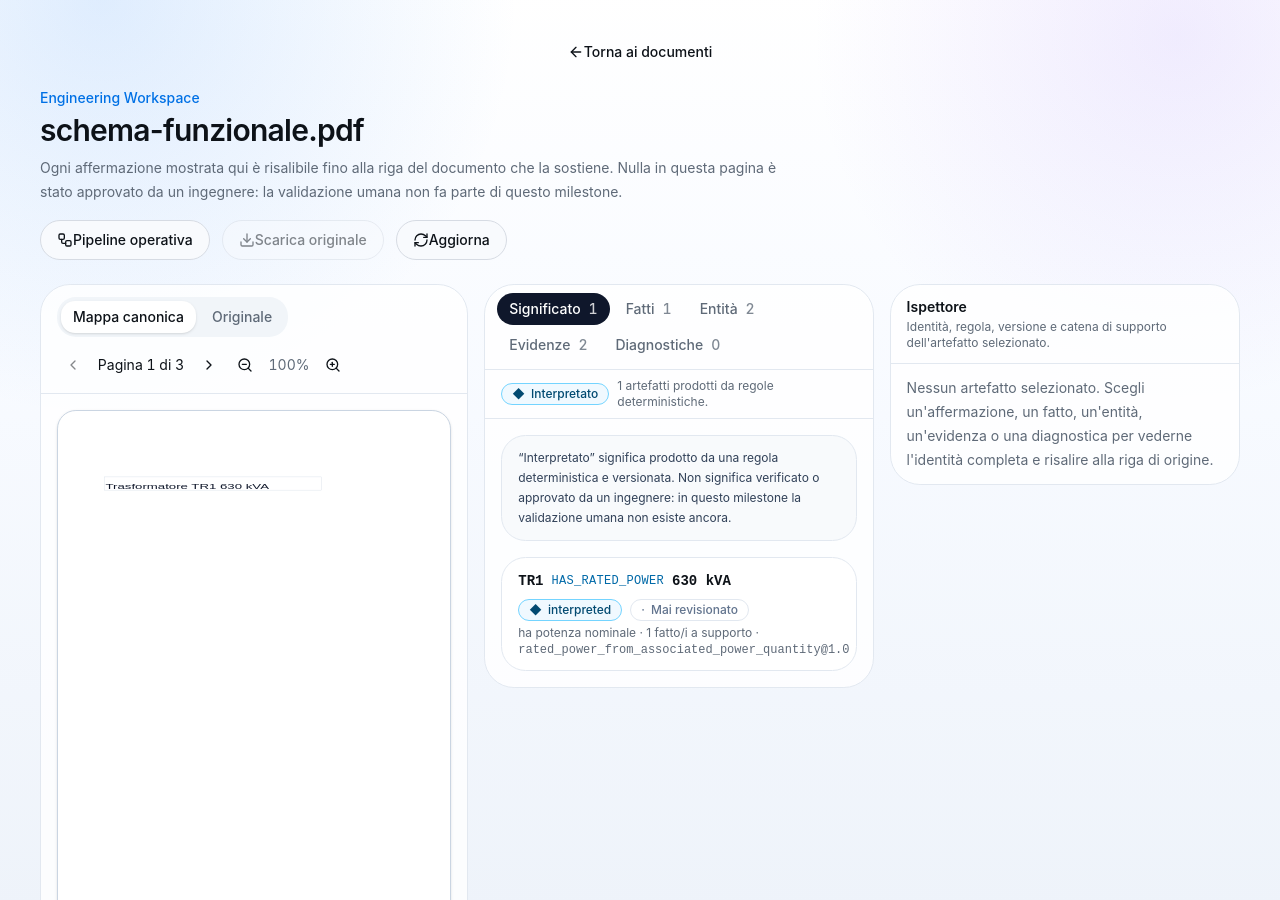
the source viewer › reports missing content instead of embedding nothing
Expected: the heading "schema-funzionale.pdf" is shown, x1=40 y1=112 x2=364 y2=148
Step 1. Click the tab "Originale" → (242, 317), box x1=200 y1=301 x2=284 y2=333
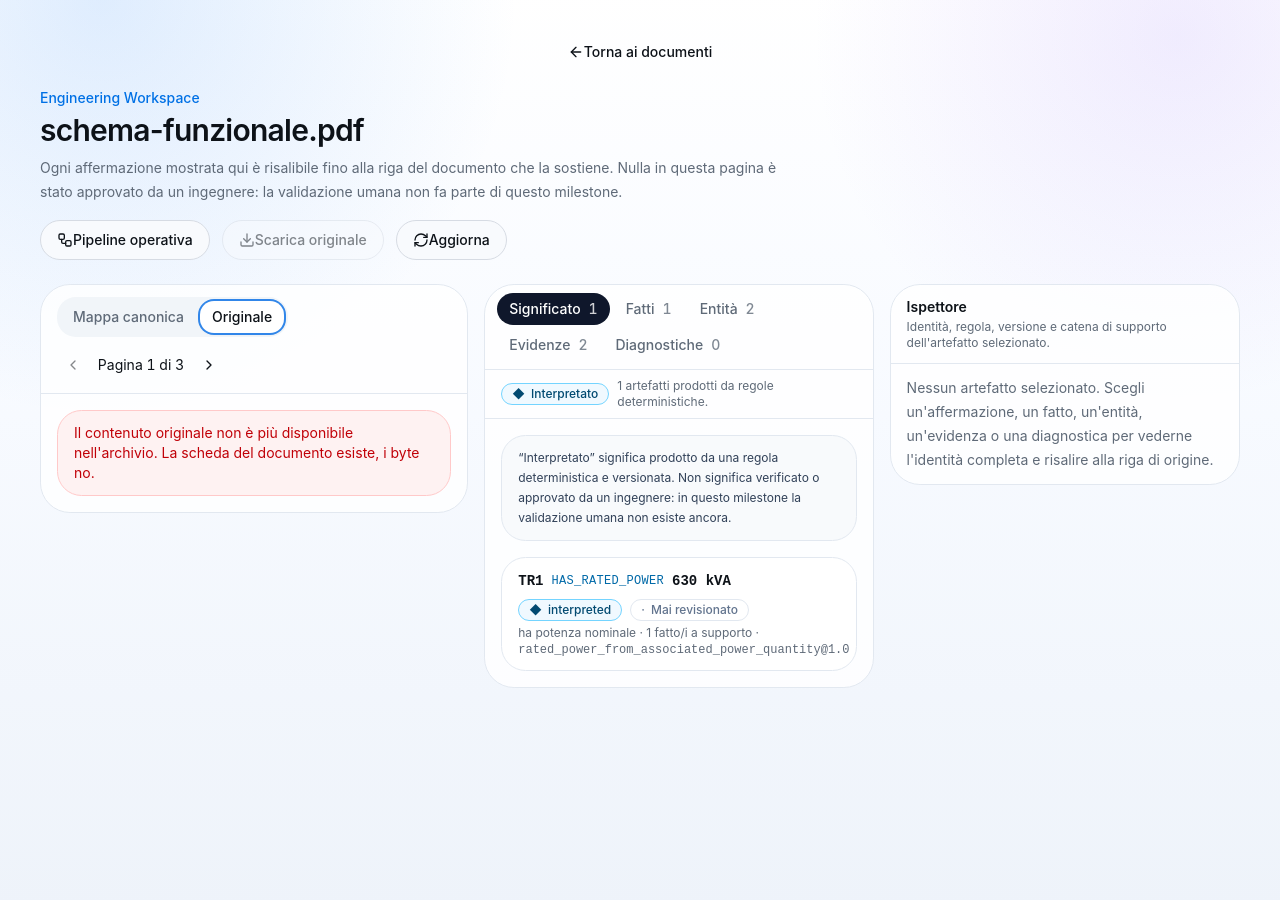
Expected: the text "non è più disponibile nell'archivio" is shown, x1=74 y1=424 x2=420 y2=481
